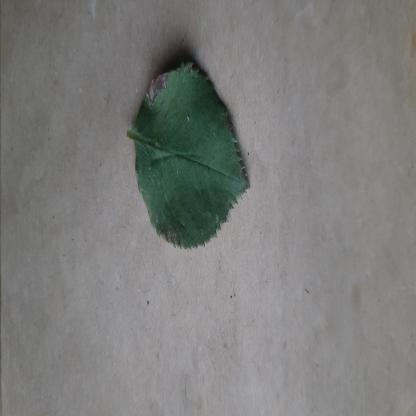downy-mildew: (134, 62, 252, 252)
